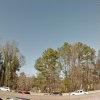Tree: (35, 36, 100, 100)
